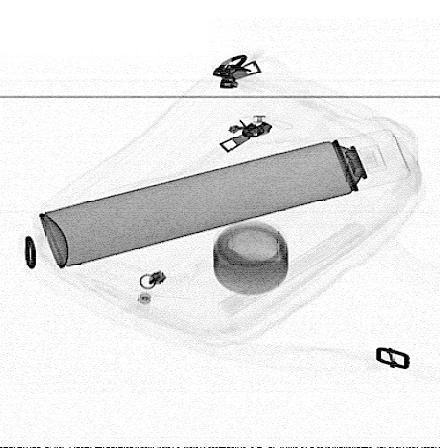Sprayer: (38, 128, 413, 270)
